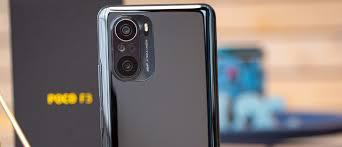Smartphone: (106, 10, 217, 147)
